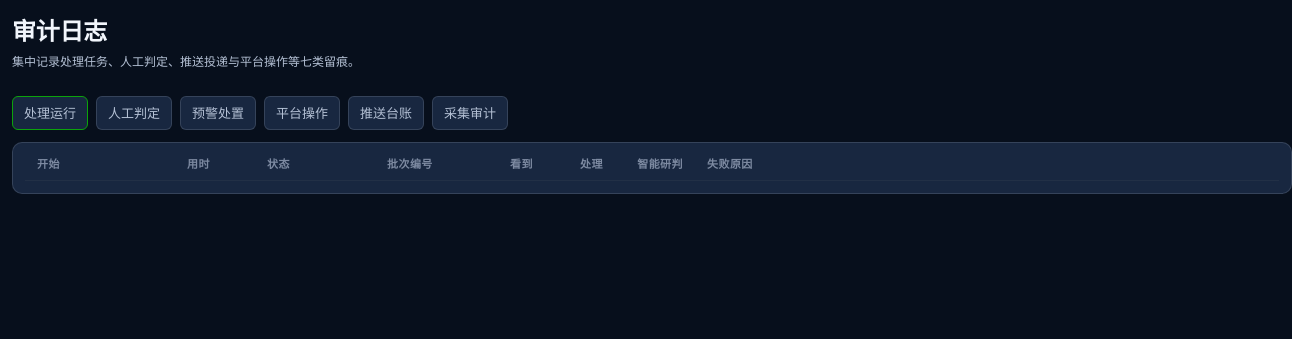
Test: 审计页 · 平台操作 › 动作名与结果名用接口给的那一份，页面不自己抄
Click the button "平台操作". click: (302, 113)
box: 264,96 -> 340,130
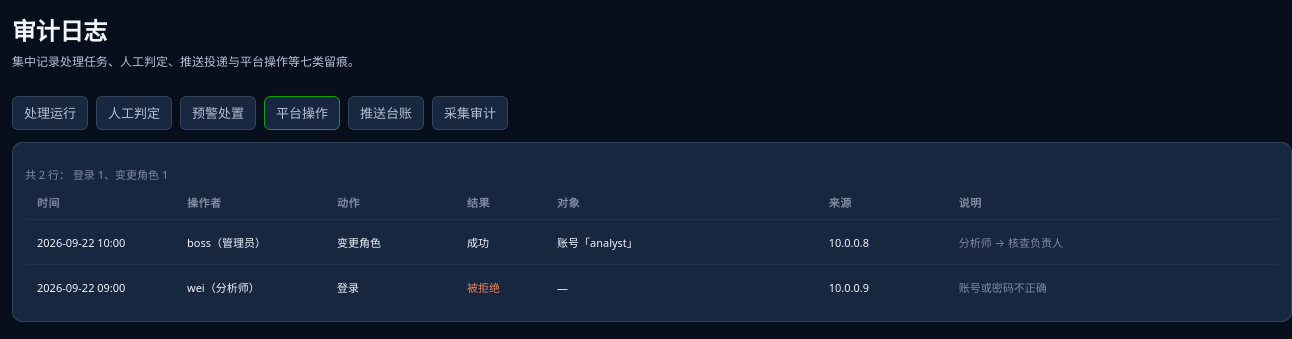
Expected: the text "变更角色" is shown, 115,167 -> 168,182
Expected: the text "被拒绝" is shown, 467,280 -> 500,295
